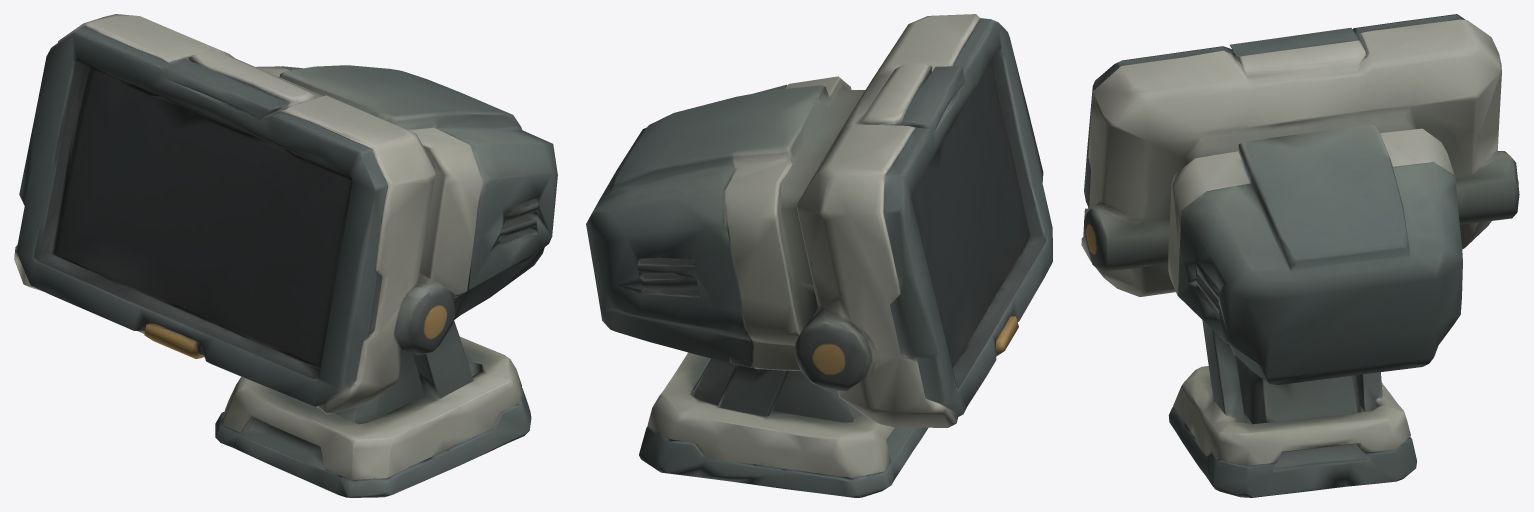
File: ENV_ALL_119_v001_RAW.glb.glb
3 views of the same model, side by side, from view 1: azimuth 30°, elevation 25°; view 2: azimuth 150°, elevation 25°; view 3: azimuth 270°, elevation 25° (orthographic). The views are drawn at different scales.
Visible parts, largest first — view 1: tripo_node_46165c85-d4a5-4c6f-ac37-21993a28c9b1; view 2: tripo_node_46165c85-d4a5-4c6f-ac37-21993a28c9b1; view 3: tripo_node_46165c85-d4a5-4c6f-ac37-21993a28c9b1.
Part boxes in pixels (x1,y1,x2,y2): tripo_node_46165c85-d4a5-4c6f-ac37-21993a28c9b1: [14, 14, 557, 497]; tripo_node_46165c85-d4a5-4c6f-ac37-21993a28c9b1: [586, 14, 1052, 497]; tripo_node_46165c85-d4a5-4c6f-ac37-21993a28c9b1: [1081, 14, 1519, 497].
Size of the model in its own units: 0.9812 by 0.845 by 0.9749.
1 material, 1 textured.
